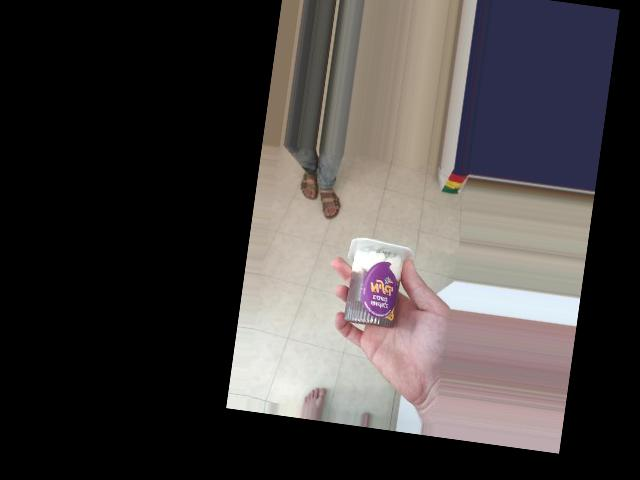milky: (339, 247, 405, 331)
